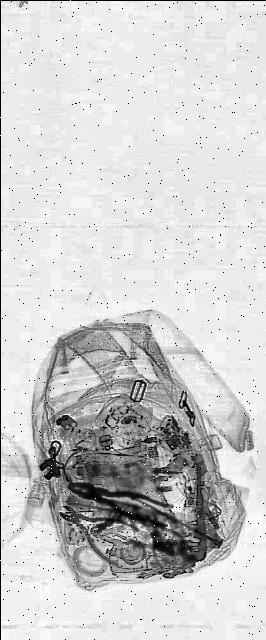Pliers: (55, 476, 140, 576), (67, 467, 173, 533)
